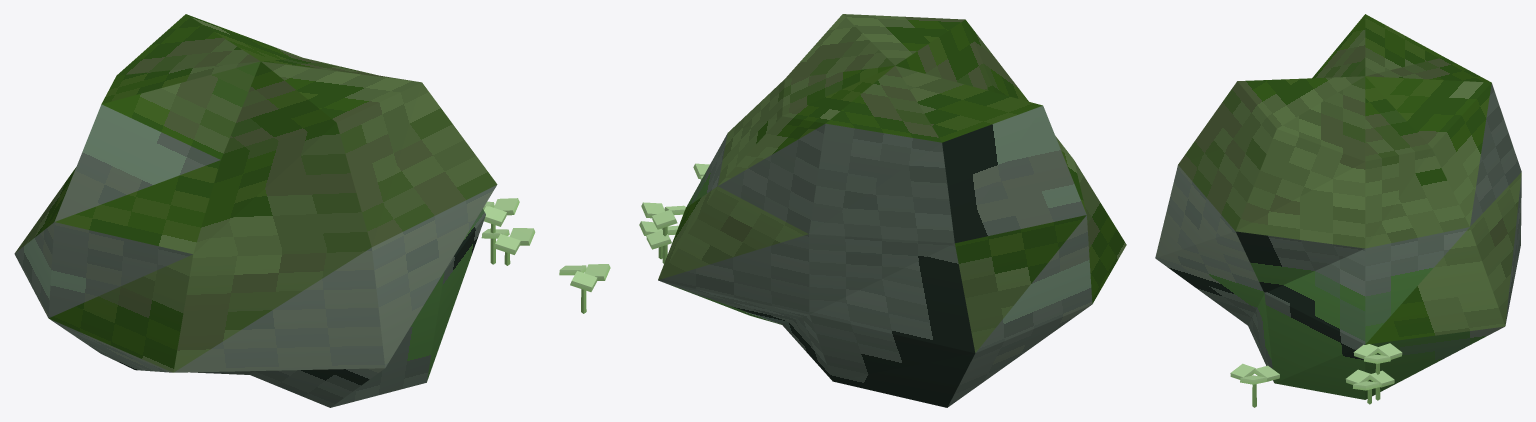
File: mossy_stone.glb
3 renders of one model, left to right at view 1: azimuth 30°, elevation 25°; view 2: azimuth 150°, elevation 25°; view 3: azimuth 270°, elevation 25°, orthographic. The views are drawn at different scales.
Visible parts, largest first — view 1: mossy_stone; view 2: mossy_stone; view 3: mossy_stone.
Part boxes in pixels (left/top/right/bottom): mossy_stone: left=14, top=14, right=610, bottom=407; mossy_stone: left=639, top=14, right=1126, bottom=407; mossy_stone: left=1155, top=14, right=1521, bottom=407.
Size of the model in its own units: 2.14 by 1.3 by 1.62.
3 materials, 2 textured.
